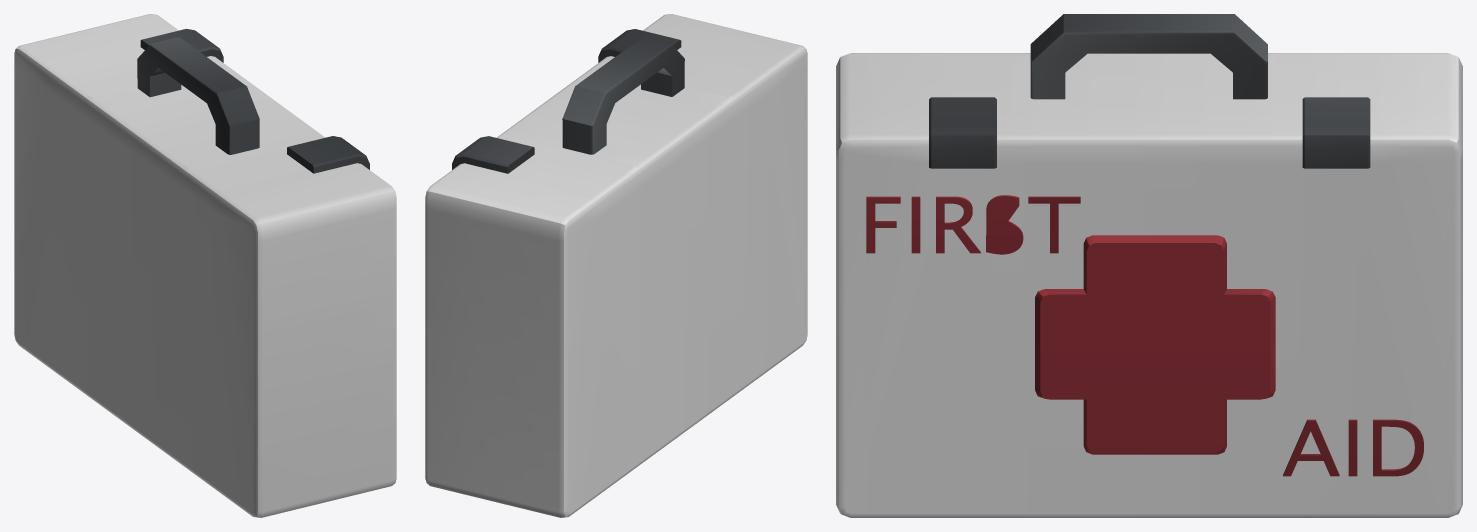
File: First_kit.fbx
3 views of the same model, side by side, from view 1: azimuth 30°, elevation 25°; view 2: azimuth 150°, elevation 25°; view 3: azimuth 270°, elevation 25° (orthographic). The views are drawn at different scales.
Visible parts, largest first — view 1: pCube290; view 2: pCube290; view 3: pCube290.
Part boxes in pixels (left/top/right/bottom): pCube290: left=14, top=14, right=396, bottom=517; pCube290: left=425, top=14, right=807, bottom=517; pCube290: left=836, top=14, right=1462, bottom=517.
Bounding box in the file's own units: 22.65 × 50.91 × 64.24.
